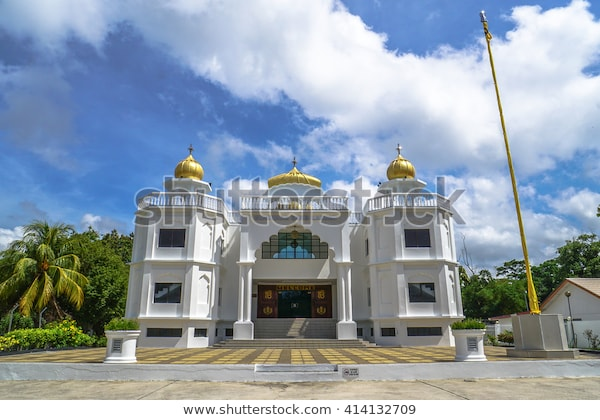Gurdwara: (103, 146, 458, 350)
